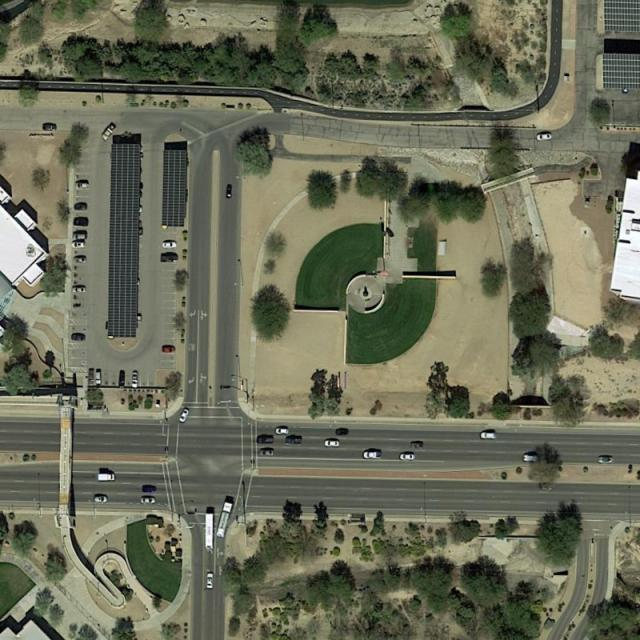vehicle: (216, 501, 234, 539), (204, 513, 215, 550), (101, 122, 118, 142), (362, 450, 382, 460), (178, 407, 190, 423), (536, 131, 553, 142), (399, 453, 418, 462), (97, 473, 117, 481), (480, 431, 500, 439), (522, 454, 542, 462), (118, 370, 126, 388), (95, 370, 104, 386), (206, 572, 215, 588), (162, 254, 179, 262), (74, 182, 91, 190), (597, 456, 614, 464), (74, 218, 90, 226), (258, 449, 274, 457), (538, 483, 554, 491), (140, 485, 158, 492), (335, 429, 349, 438), (285, 438, 303, 445), (72, 286, 87, 294), (324, 440, 339, 448), (622, 79, 630, 94), (94, 494, 108, 502), (140, 497, 156, 504), (74, 202, 90, 209), (274, 427, 290, 434), (88, 368, 94, 386), (258, 438, 276, 444), (162, 347, 177, 354), (162, 242, 177, 249), (71, 334, 86, 341), (132, 371, 138, 388), (73, 232, 87, 239), (72, 242, 86, 249), (411, 441, 423, 449), (225, 186, 233, 198), (41, 125, 58, 130), (74, 257, 86, 264), (630, 1, 637, 4), (298, 638, 306, 640)
